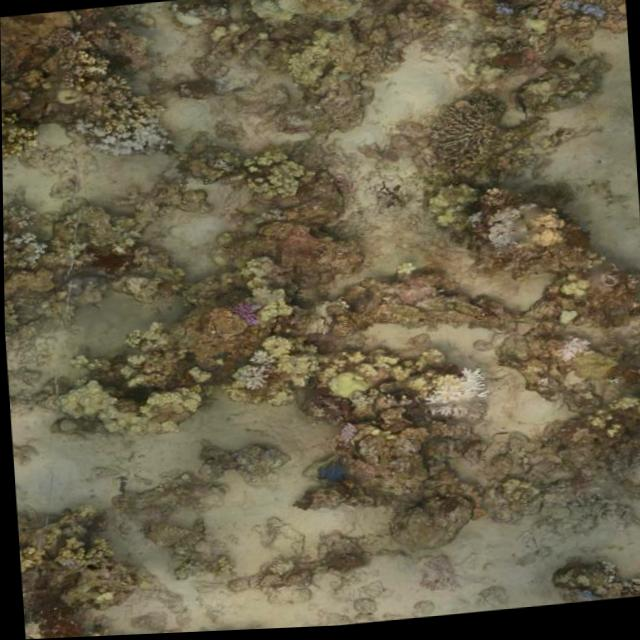Bleached Coral: (406, 367, 499, 433), (82, 112, 185, 164), (470, 200, 537, 265), (2, 213, 57, 272), (225, 347, 281, 396), (550, 333, 608, 372)
